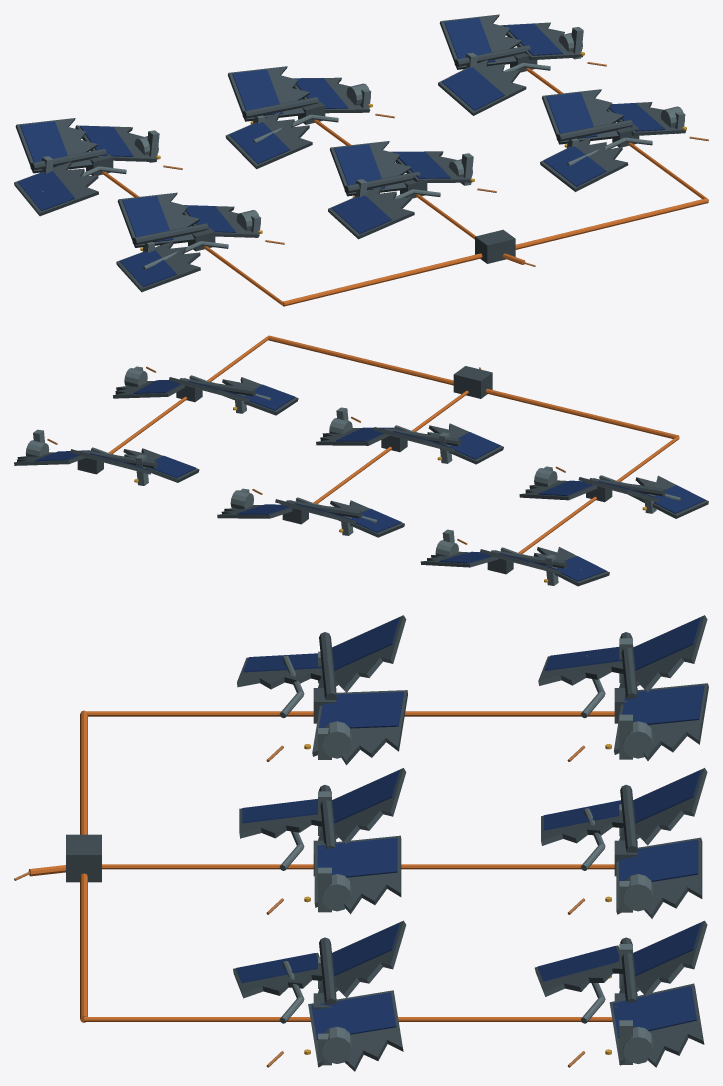
Rendered from solar_array_d3.glb.
The picture shows the model from 3 angles, top to bottom: view 1: azimuth 30°, elevation 25°; view 2: azimuth 150°, elevation 25°; view 3: azimuth 270°, elevation 25°; orthographic projection. The views are drawn at different scales.
Parts seen in each view (by area): view 1: SOLAR_GAME_MESH; view 2: SOLAR_GAME_MESH; view 3: SOLAR_GAME_MESH.
Part boxes in pixels (x1,y1,x2,y2): SOLAR_GAME_MESH: [14, 14, 708, 306]; SOLAR_GAME_MESH: [14, 335, 708, 586]; SOLAR_GAME_MESH: [14, 615, 708, 1071].
Size of the model in its own units: 16.33 by 1.34 by 11.54.
